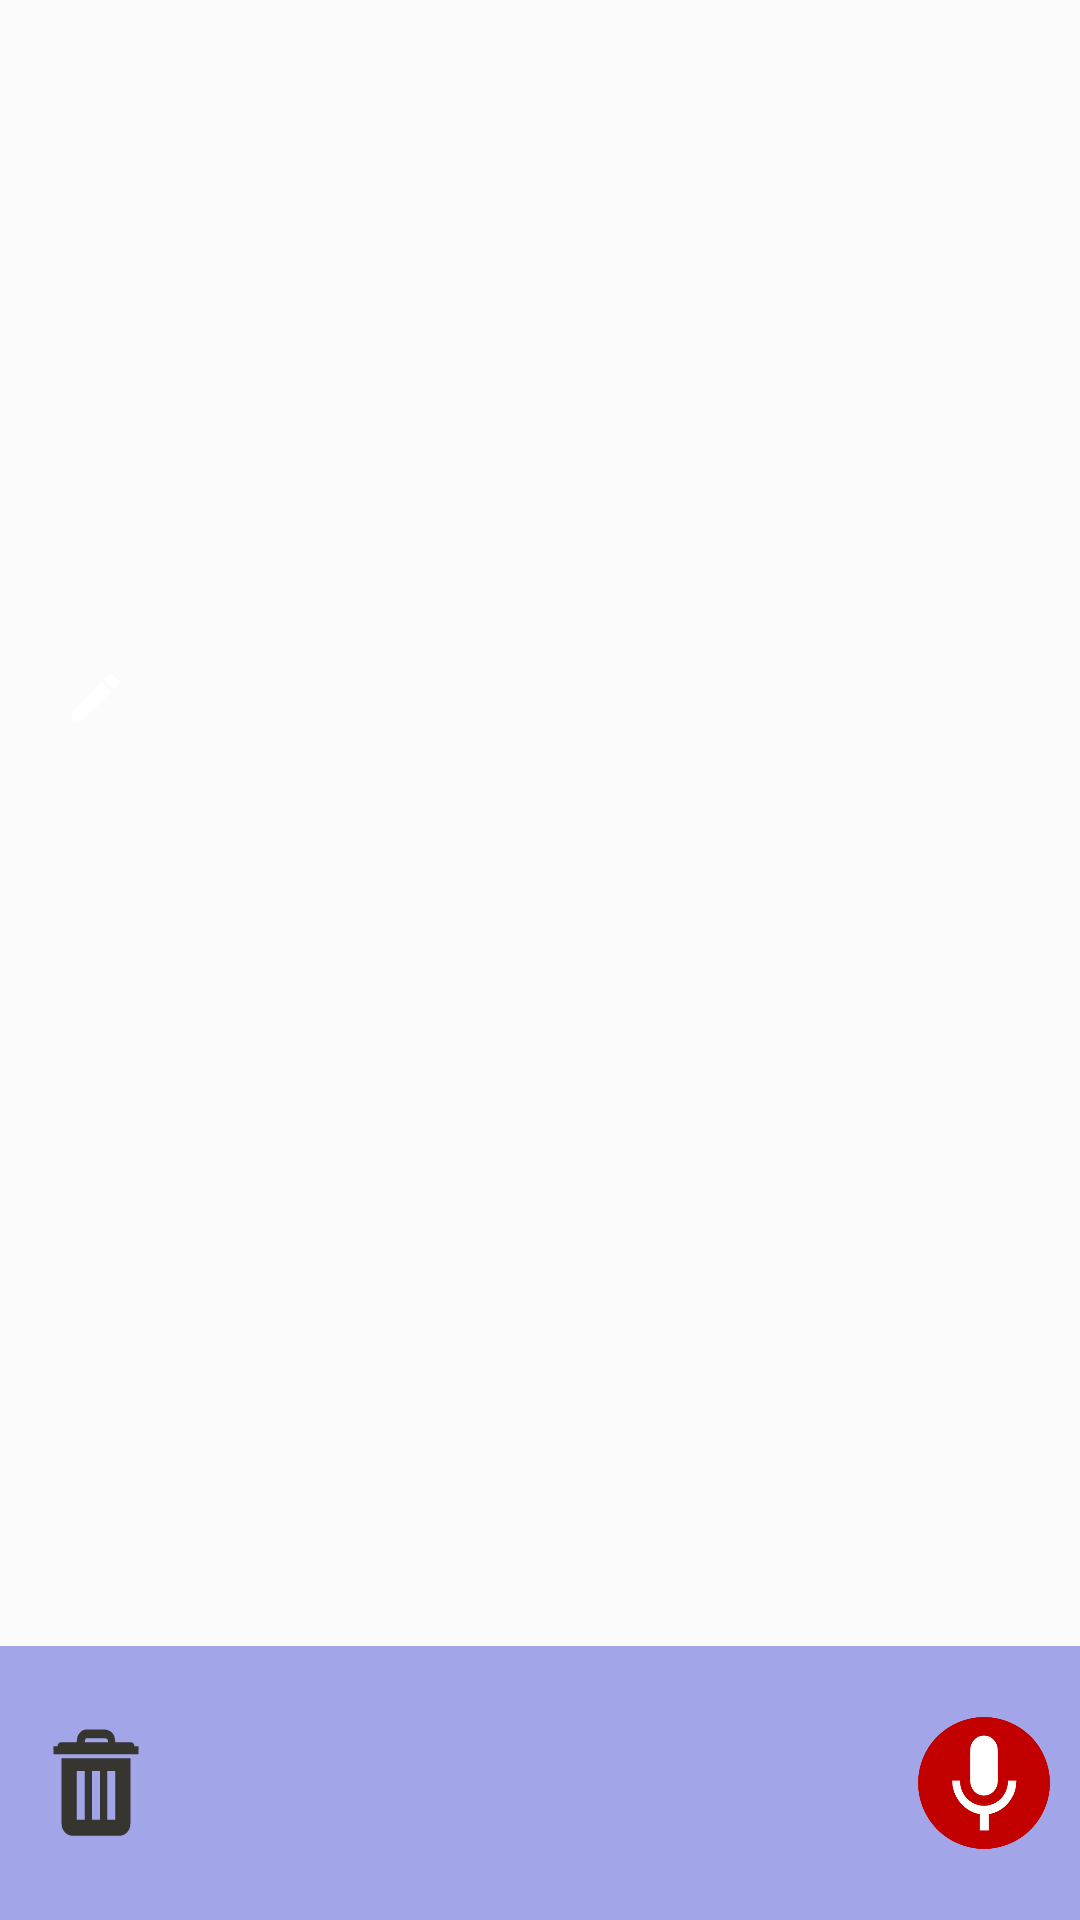

Point at icon controls on the screen. Image size 1080px x 1920px, points as (x,y).
delete: (96,1782)
mic: (984,1783)
